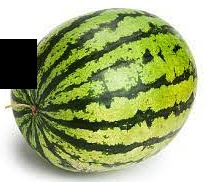watermelon: (9, 7, 198, 173)
